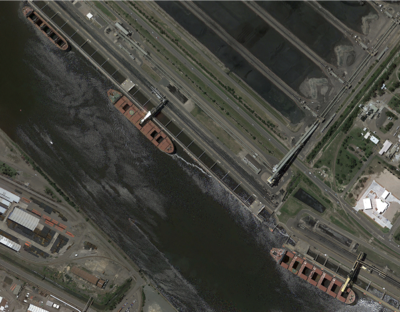boat: (270, 247, 357, 305), (107, 89, 175, 154), (22, 6, 69, 51), (50, 141, 54, 145)
